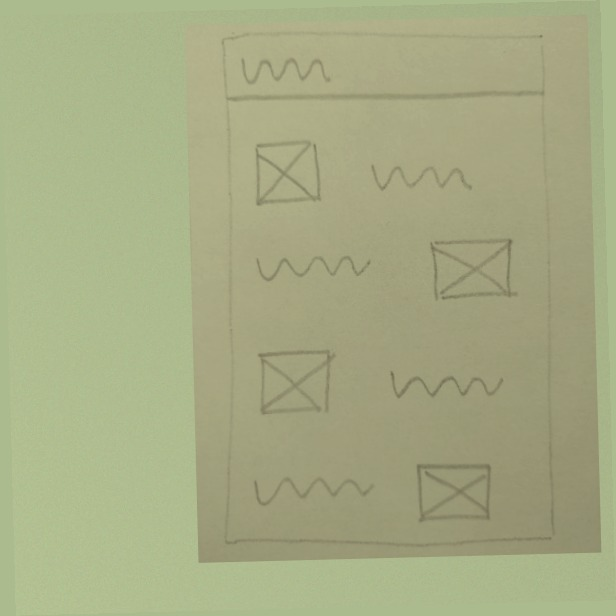image: (424, 232, 520, 304), (249, 346, 345, 418), (406, 457, 502, 529), (248, 136, 326, 210)
text: (248, 243, 375, 284), (248, 471, 378, 510), (379, 366, 509, 405), (366, 155, 477, 198), (236, 51, 334, 89)
